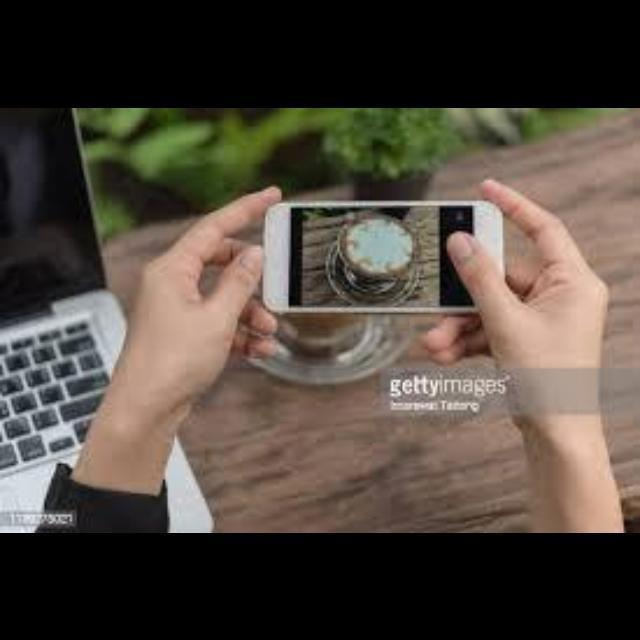phone: (246, 192, 530, 334)
